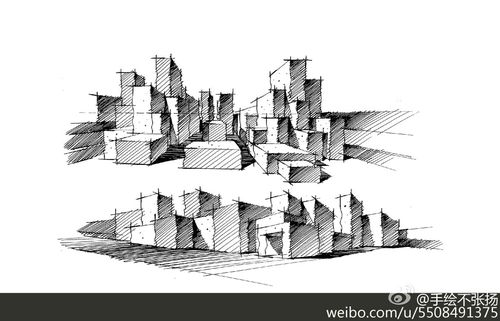buildings: (249, 65, 384, 192), (75, 186, 282, 266), (68, 62, 193, 176), (262, 173, 396, 263), (186, 86, 244, 183)
